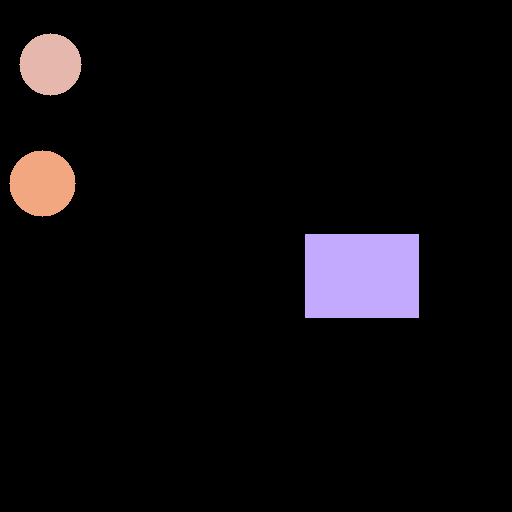circle: (9, 150, 75, 216), (19, 33, 81, 95)
rectangle: (305, 234, 418, 317)
